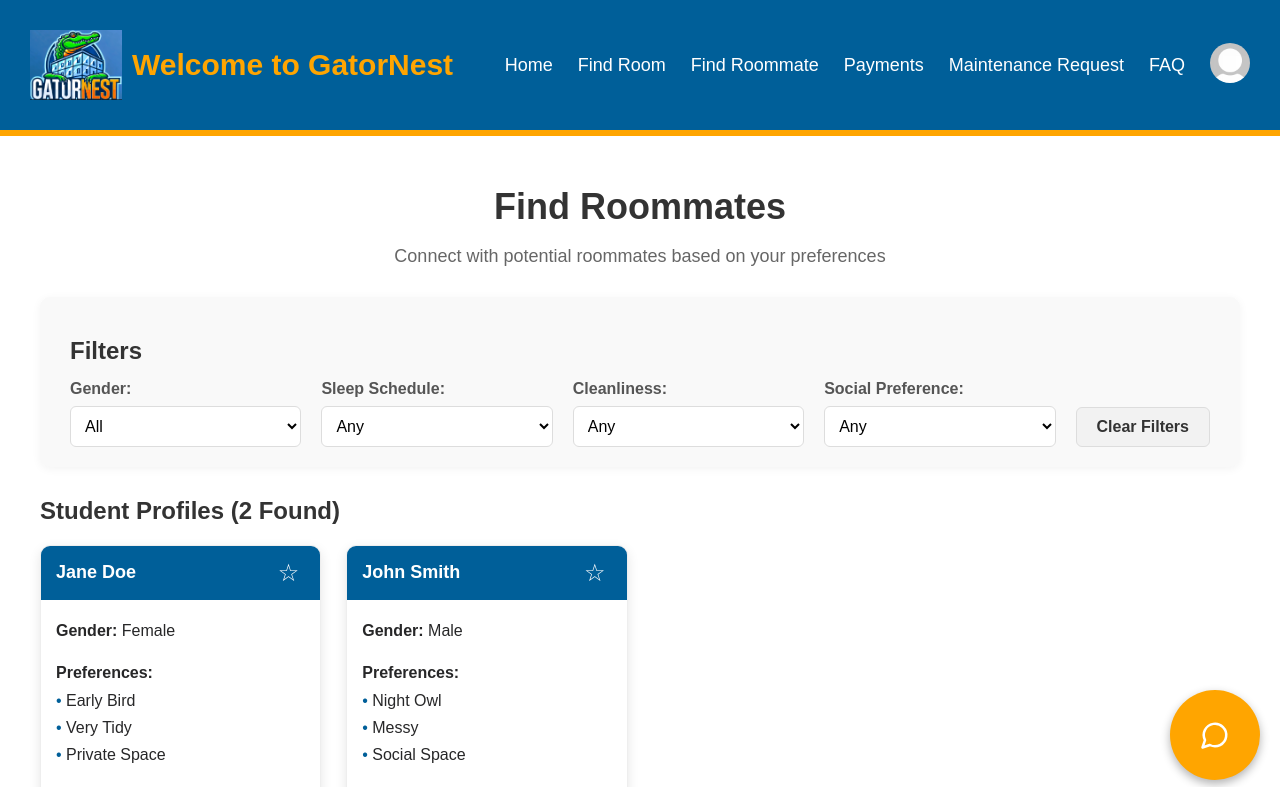
Find Roommate Tests › should favorite and unfavorite a profile
This screenshot has width=1280, height=787.
Click the button with class "favorite-btn" next to "Jane Doe".
click(289, 573)  # box [272,558,306,588]
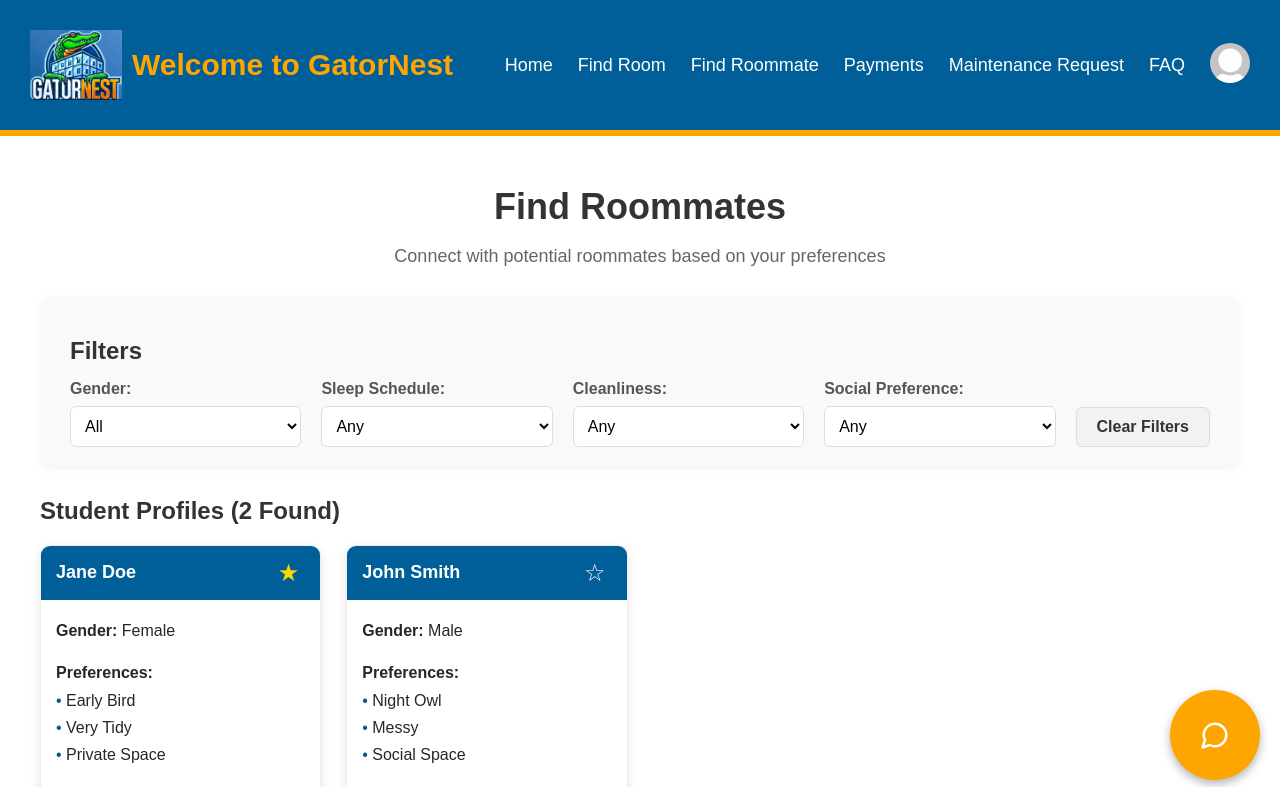
Expected: the button with class "favorite-btn" reads "★"
Click the button with class "favorite-btn" showing "★".
click(289, 573)  # box [272,558,306,588]
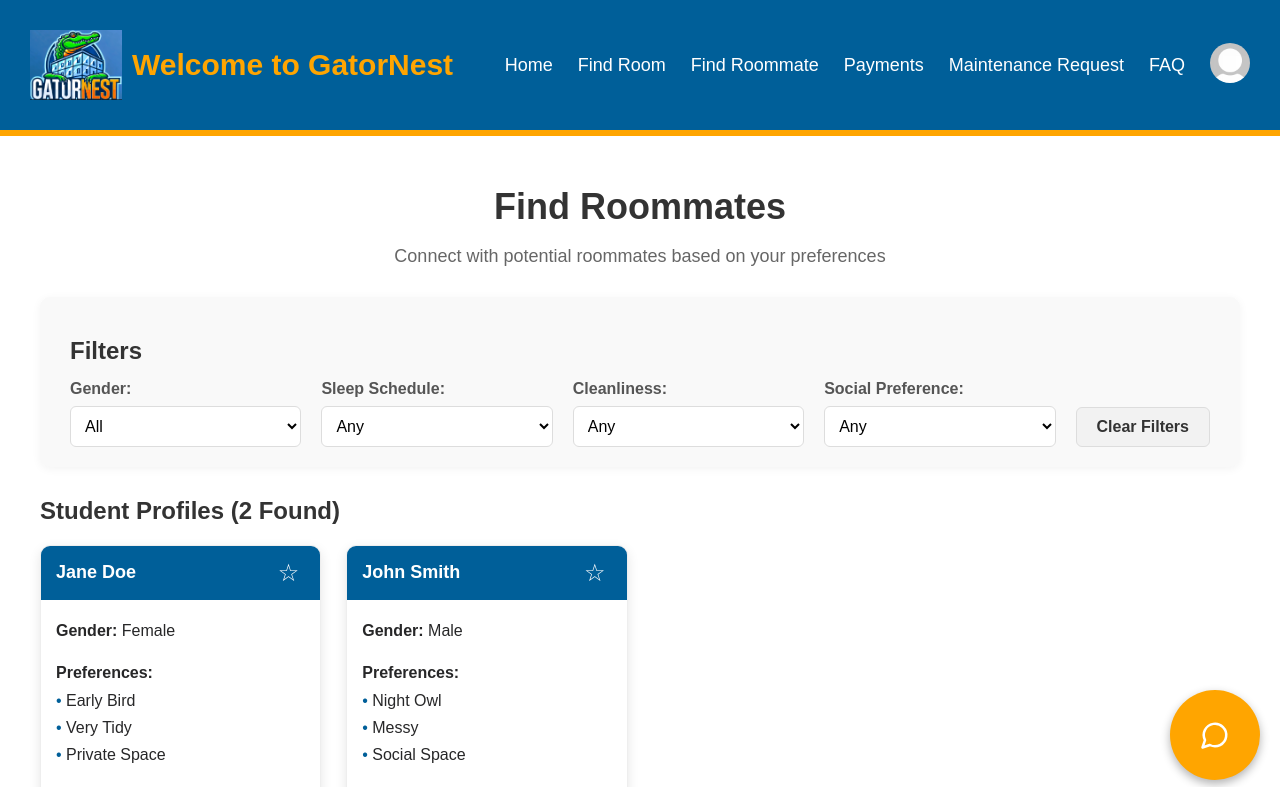
Expected: the button with class "favorite-btn" next to "Jane Doe" reads "☆", [272,558,306,588]
